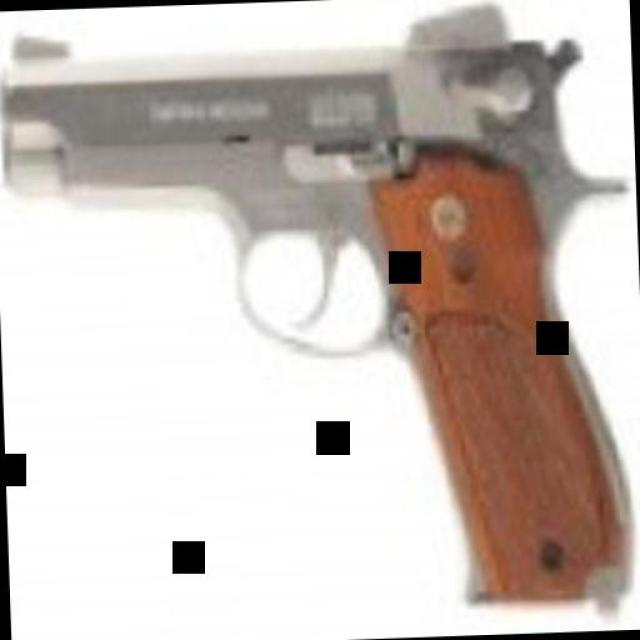gun: (8, 0, 628, 621)
